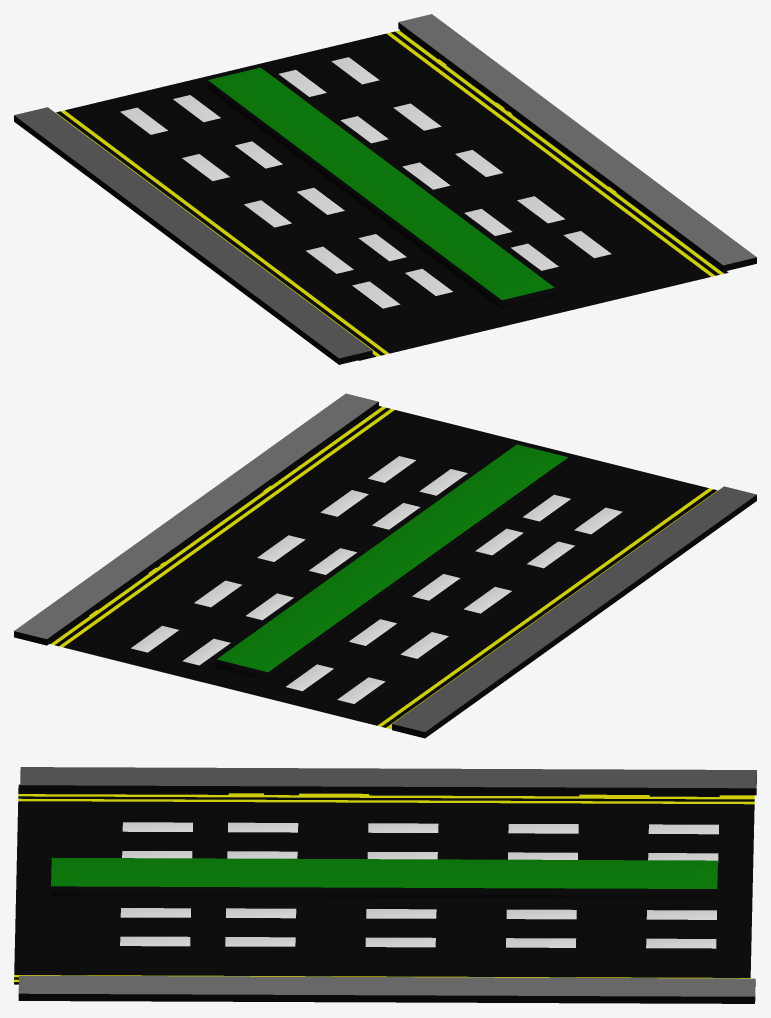
The model's file is road_1.fbx.
3 views of the same model, one above another, from view 1: azimuth 30°, elevation 25°; view 2: azimuth 150°, elevation 25°; view 3: azimuth 270°, elevation 25° (orthographic). The views are drawn at different scales.
Parts seen in each view (by area): view 1: Plane.003, Plane.004, Plane.005; view 2: Plane.003, Plane.004, Plane.005; view 3: Plane.003, Plane.005, Plane.004.
Boxes of the visible parts, box(x1,y1,x2,y2) form: Plane.003: box(55, 30, 728, 360); Plane.004: box(14, 107, 372, 364); Plane.005: box(398, 14, 756, 271); Plane.003: box(49, 406, 717, 729); Plane.004: box(392, 486, 756, 738); Plane.005: box(14, 393, 378, 645); Plane.003: box(14, 784, 754, 984); Plane.005: box(18, 975, 755, 1003); Plane.004: box(20, 767, 756, 795).
Bounding box in the file's own units: 2515 × 64.07 × 3437.
